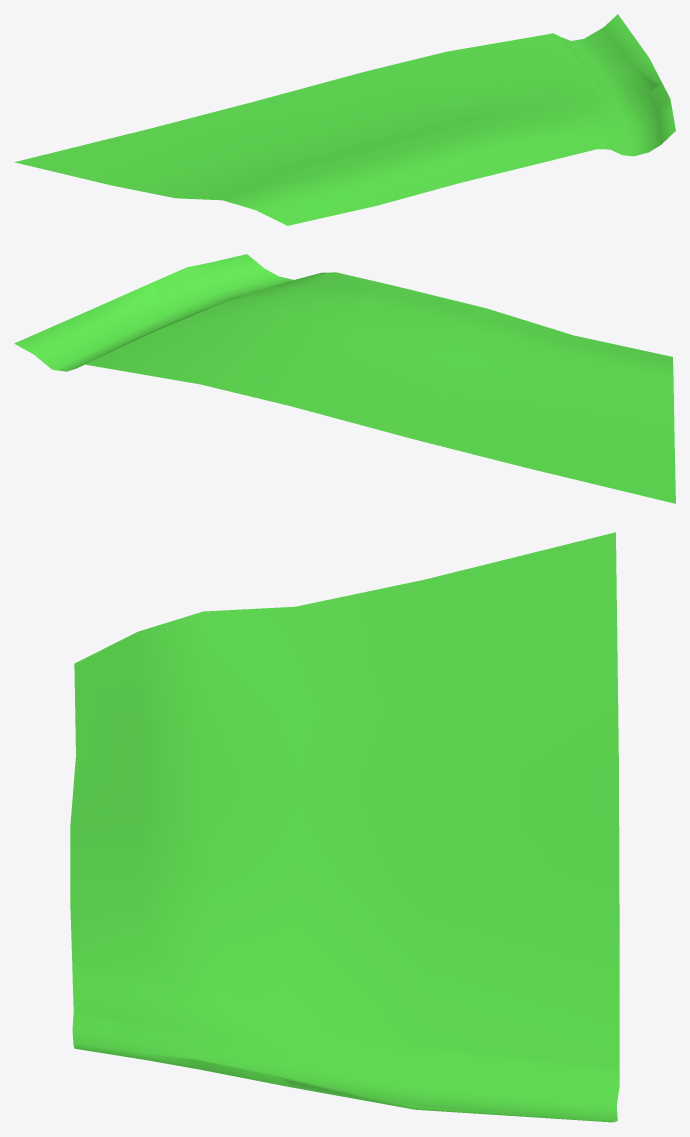
The picture shows the model from 3 angles, top to bottom: view 1: azimuth 30°, elevation 25°; view 2: azimuth 150°, elevation 25°; view 3: azimuth 270°, elevation 25°; orthographic projection. The views are drawn at different scales.
Visible parts, largest first — view 1: polySurface11; view 2: polySurface11; view 3: polySurface11.
Boxes of the visible parts, x1=… form: polySurface11: x1=14, y1=14, x2=675, y2=225; polySurface11: x1=14, y1=254, x2=675, y2=503; polySurface11: x1=70, y1=532, x2=619, y2=1122.
Size of the model in its own units: 6444 by 318 by 2535.
